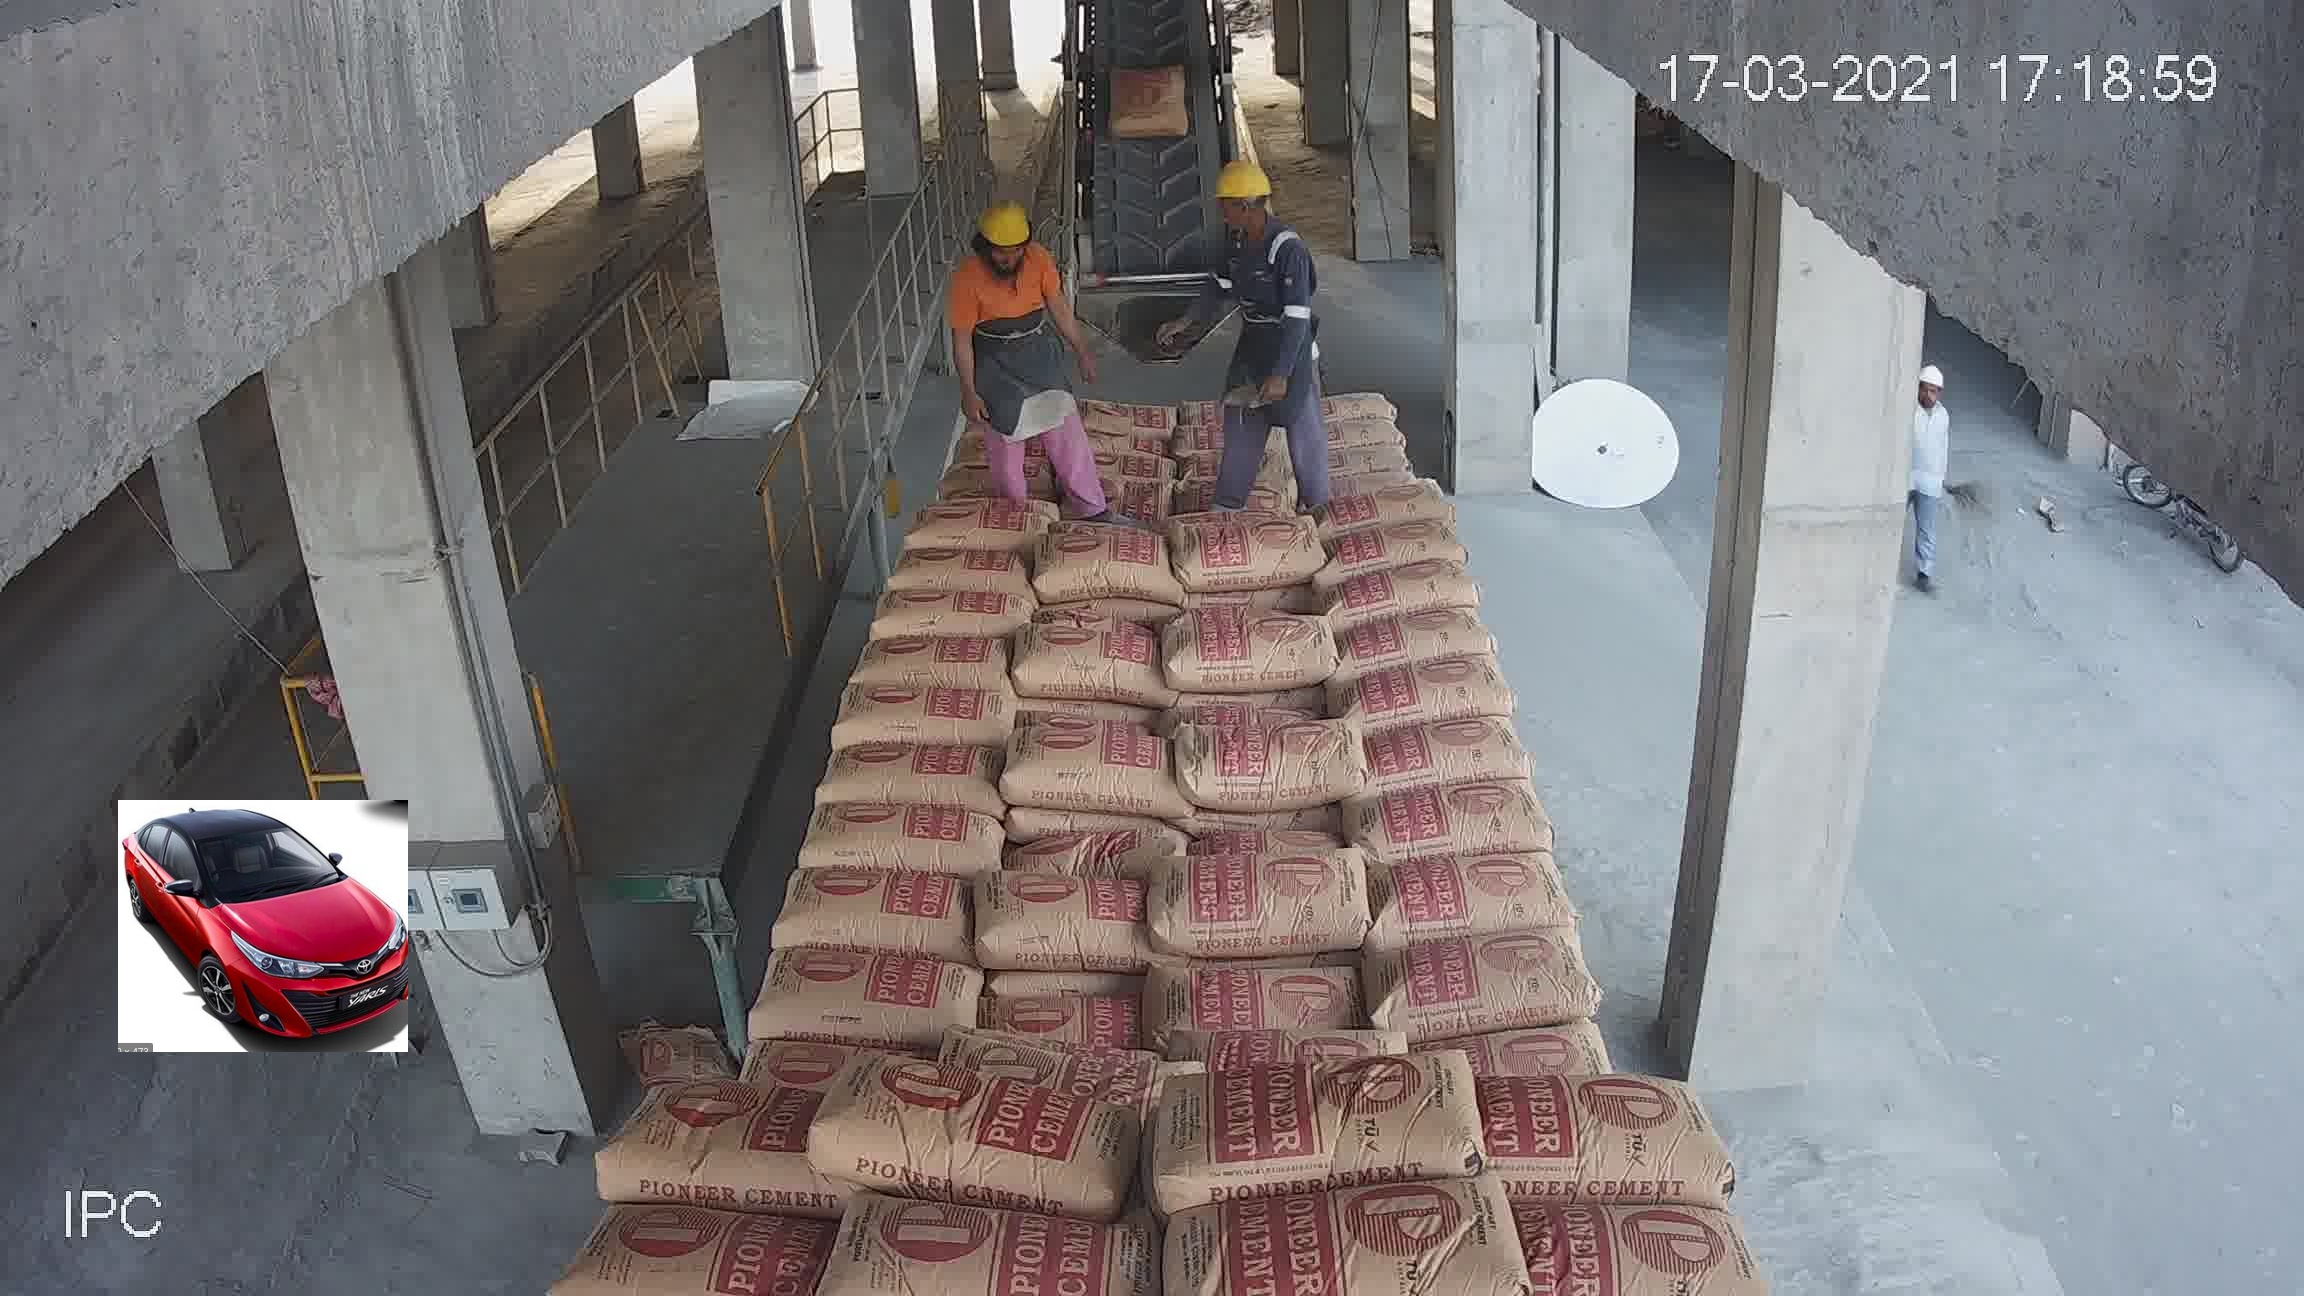bag: (1108, 63, 1185, 138)
bag_h: (1141, 1059, 1475, 1215), (798, 1052, 1139, 1195), (1173, 1165, 1514, 1287), (1480, 1059, 1714, 1204), (1506, 1180, 1771, 1296), (603, 1079, 812, 1217), (1374, 932, 1608, 1046), (815, 1215, 1146, 1291), (1166, 843, 1367, 957), (763, 942, 975, 1049), (961, 859, 1150, 972), (766, 859, 976, 954), (794, 801, 1005, 892), (1364, 853, 1568, 946), (1165, 722, 1359, 815), (1347, 639, 1506, 745), (1150, 1021, 1407, 1086), (585, 1220, 798, 1296), (1143, 954, 1385, 1017), (809, 720, 991, 804), (1366, 779, 1541, 859), (1146, 620, 1343, 692), (1176, 502, 1320, 598), (824, 673, 1021, 741), (869, 567, 1027, 649), (843, 619, 1019, 692), (1310, 565, 1483, 638), (999, 726, 1161, 802), (1351, 715, 1544, 779), (1472, 1022, 1628, 1097), (1013, 801, 1184, 869), (1036, 508, 1165, 589), (972, 983, 1131, 1046), (945, 1025, 1161, 1071), (891, 498, 1051, 557), (881, 532, 1032, 593), (1030, 620, 1165, 684), (1317, 517, 1461, 571), (1334, 468, 1468, 524), (1305, 434, 1419, 478), (1090, 473, 1184, 525), (1092, 392, 1184, 443), (1320, 411, 1408, 453), (1062, 441, 1185, 468), (1328, 372, 1396, 418)
belt: (1067, 3, 1247, 309)
